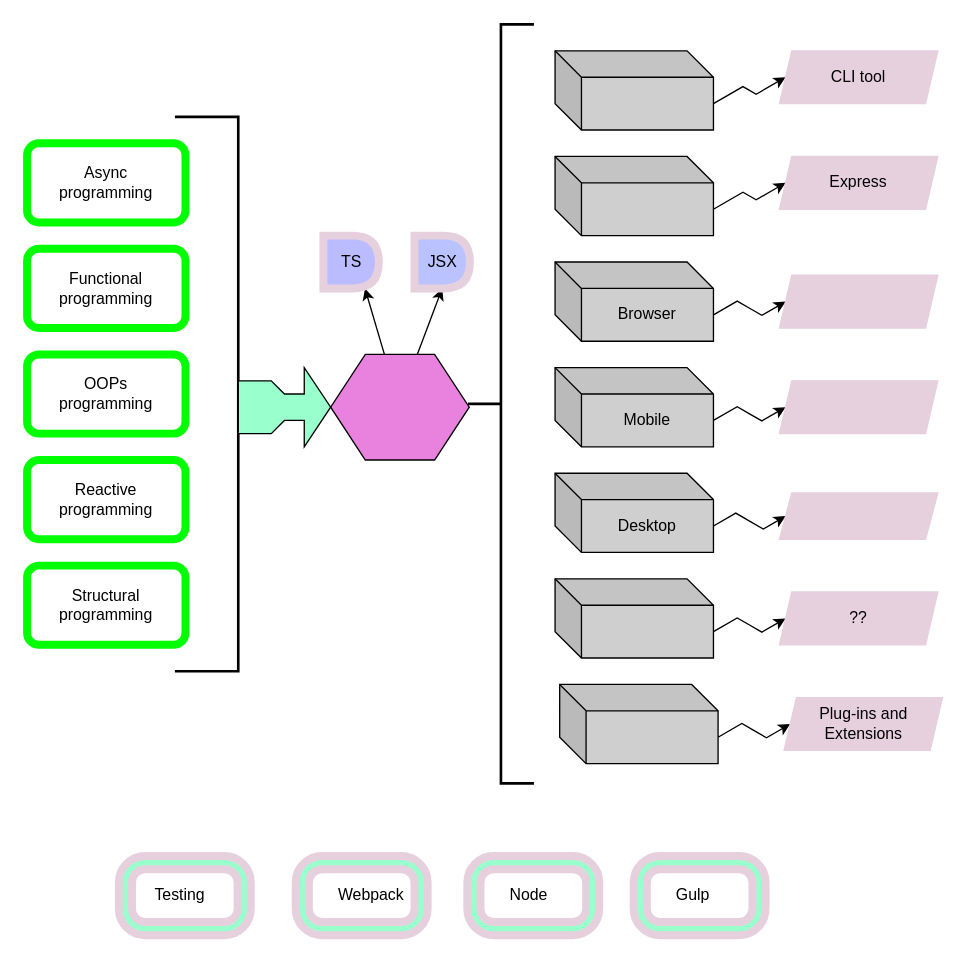
Image size: 965x961. Some labels were removed from this diagram. The box of each missing label's shape, as (x1, y1, x2, y2) in pixels:
Angular, React: (778, 274, 938, 328)
Developer m/c: (554, 50, 713, 130)
Electron: (778, 492, 938, 539)
IDEs: (558, 683, 718, 764)
IoT: (554, 578, 713, 658)
JavaScript: (329, 353, 469, 460)
NativeScript, ReactNative: (778, 380, 938, 434)
Server: (554, 155, 713, 236)
